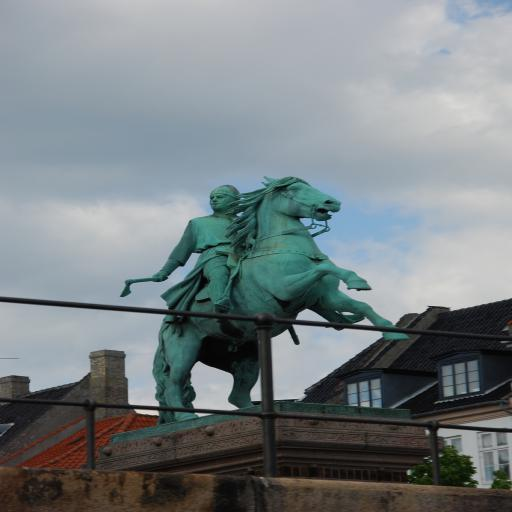horse: (152, 174, 410, 426)
